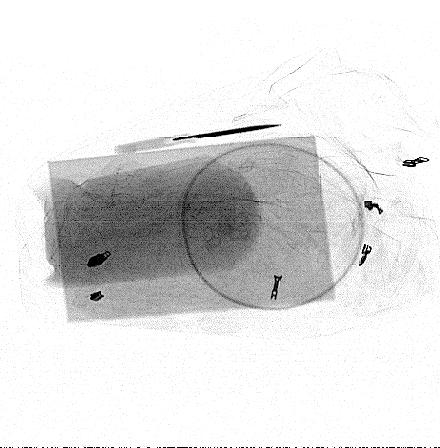Knife: (113, 123, 282, 155)
